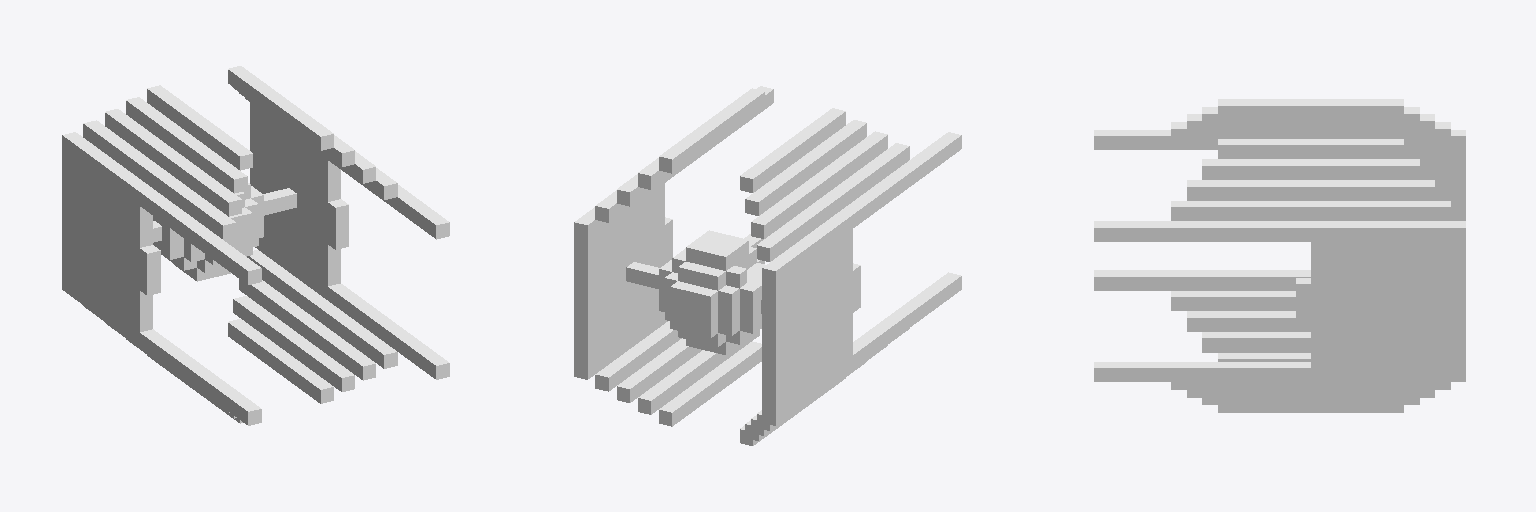
File: caza3.obj
3 renders of one model, left to right at view 1: azimuth 30°, elevation 25°; view 2: azimuth 150°, elevation 25°; view 3: azimuth 270°, elevation 25°, orthographic.
Parts seen in each view (by area): view 1: object 1; view 2: object 1; view 3: object 1.
Boxes of the visible parts, x1,y1,x2,y2 form: object 1: [62, 66, 449, 425]; object 1: [574, 86, 961, 445]; object 1: [1094, 99, 1465, 412].
Bounding box in the file's own units: 1.5 × 1.9 × 2.4.